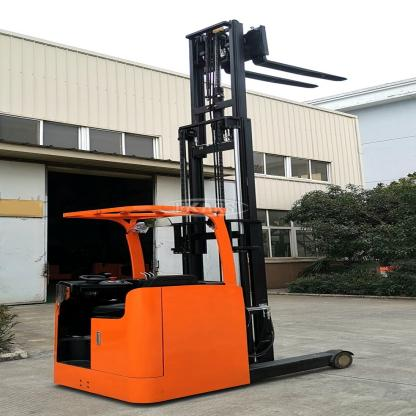forklift: (46, 204, 282, 408)
